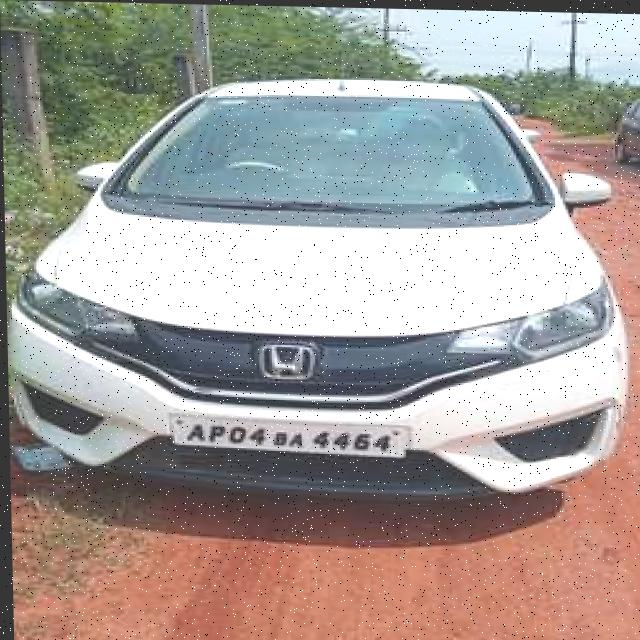plate: (168, 414, 405, 459)
